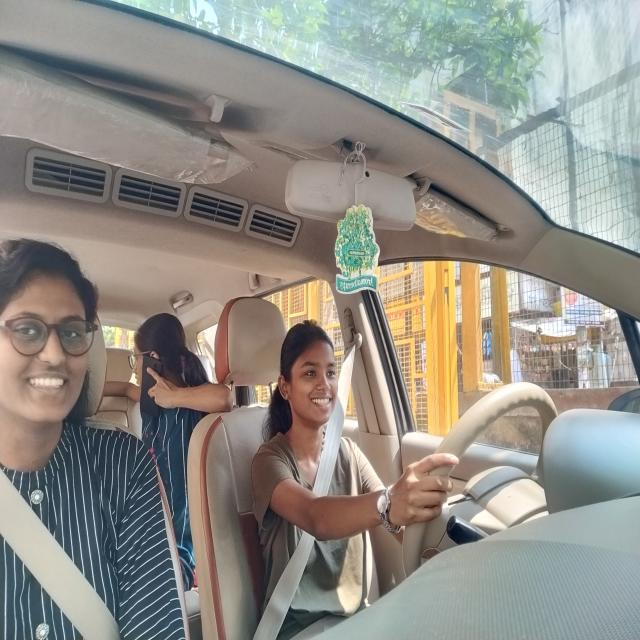person: (0, 224, 107, 485), (266, 313, 352, 448), (126, 305, 208, 436)
